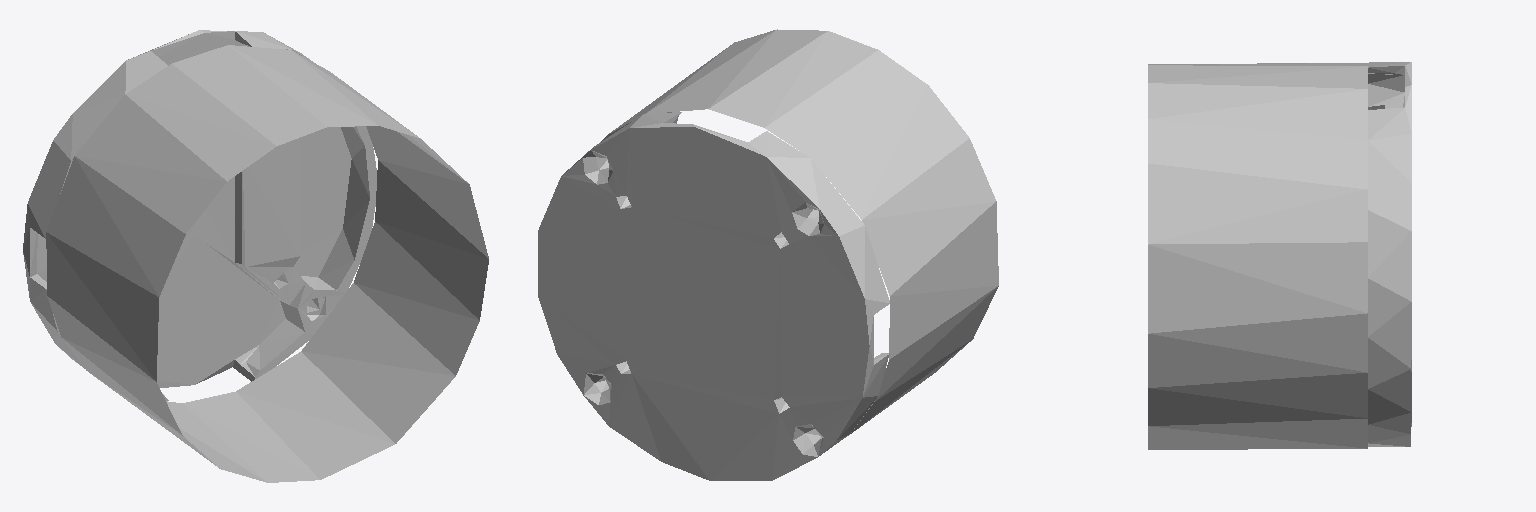
3 views of the same model, side by side, from view 1: azimuth 30°, elevation 25°; view 2: azimuth 150°, elevation 25°; view 3: azimuth 270°, elevation 25° (orthographic).
Parts seen in each view (by area): view 1: link7_1; view 2: link7_1; view 3: link7_1.
Part boxes in pixels (x1,y1,x2,y2): link7_1: (23,30,488,482); link7_1: (538,29,998,480); link7_1: (1148,62,1411,449).
Bounding box in the file's own units: 57.21 × 57.37 × 39.